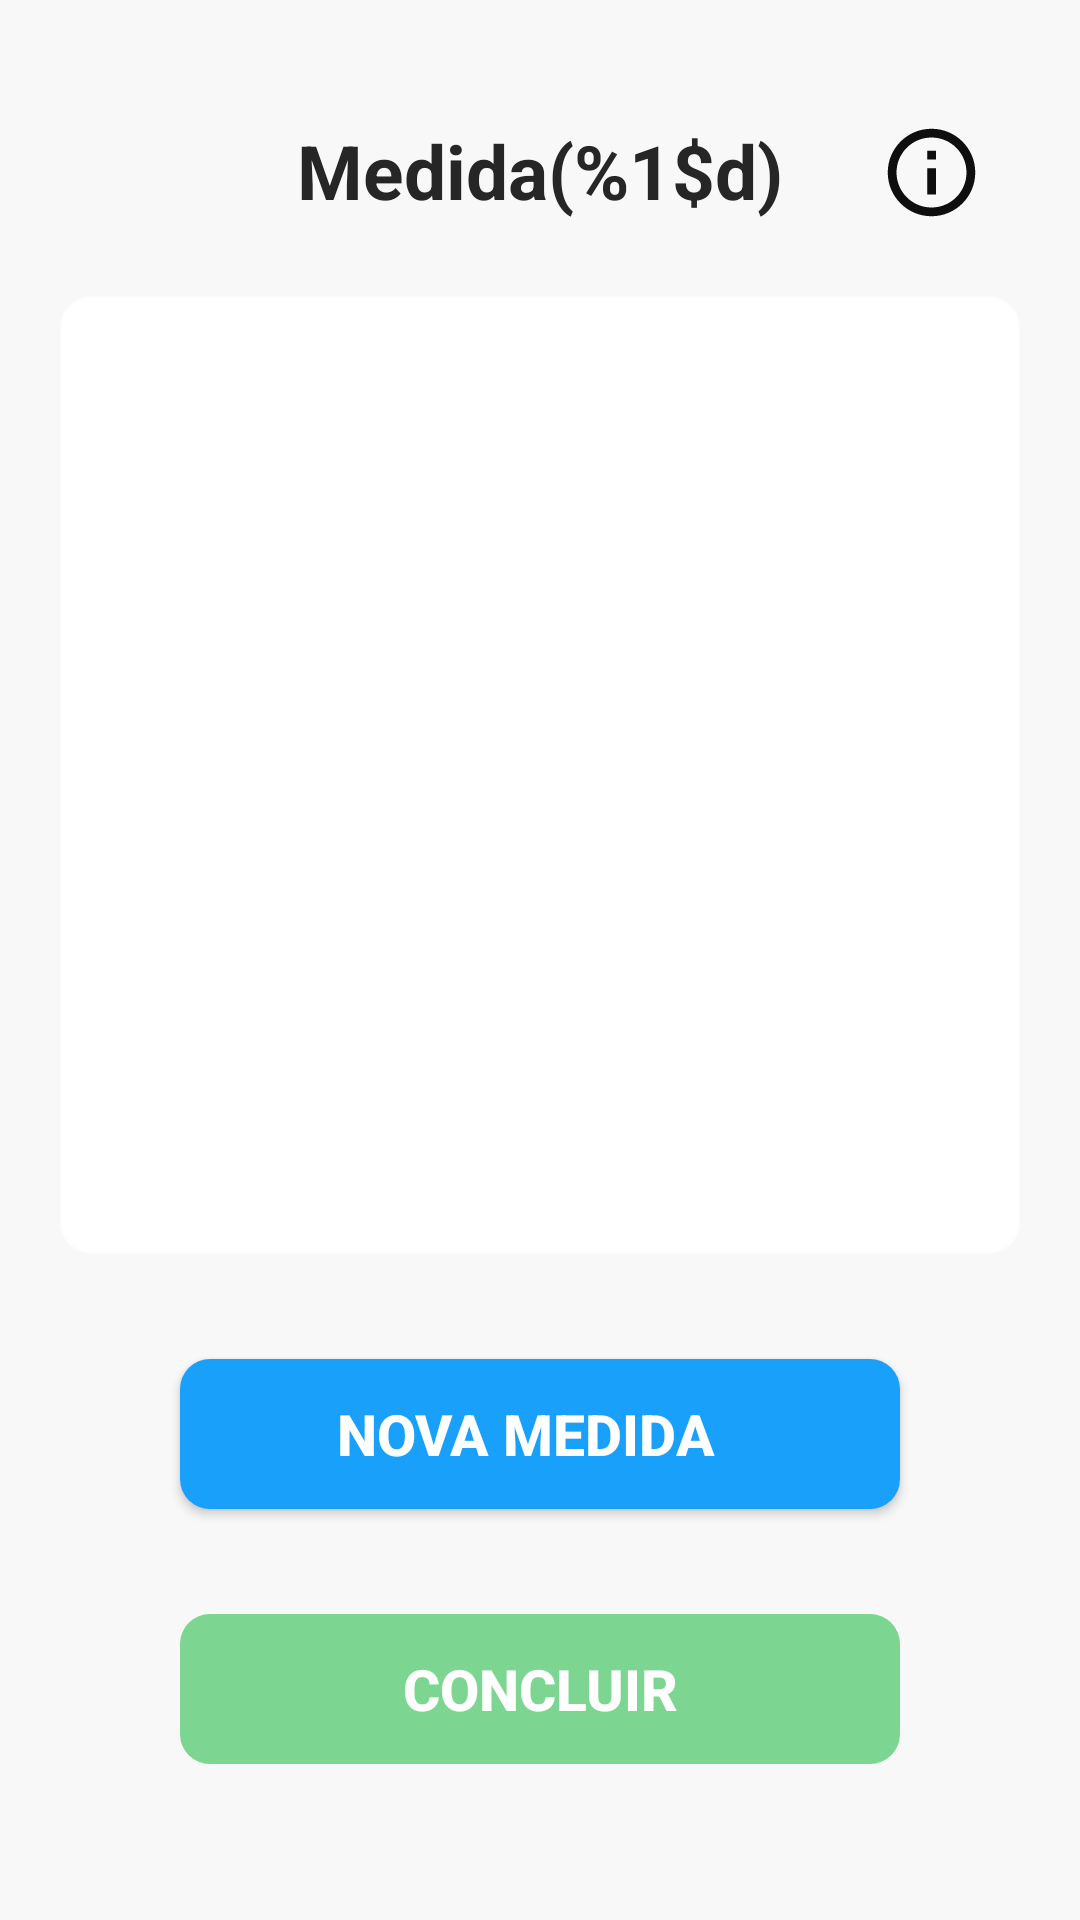

Where to tap for icons on this 1080w x 1920h app screen, as (x=x, y=y):
info: (x=931, y=172)
